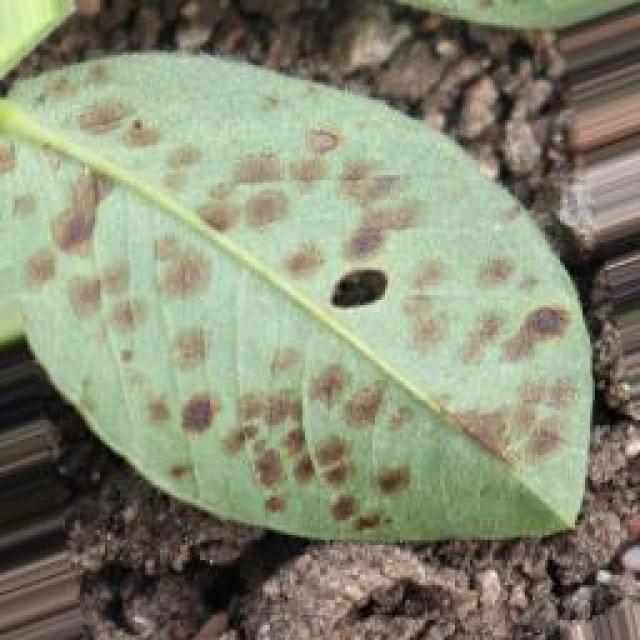Whitefly: (0, 32, 584, 612)
